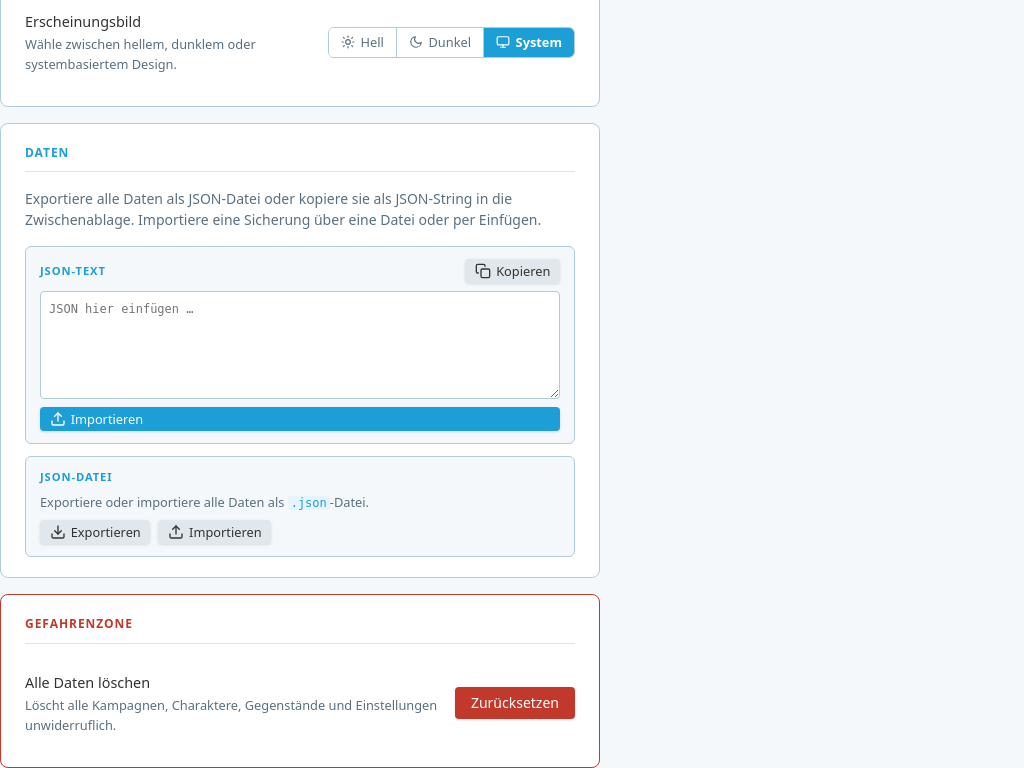
SettingsView › clear all data › clicking "Zurücksetzen" shows the confirm dialog
The width and height of the screenshot is (1024, 768).
(page scrolled)
What coordinates should you click on to do the following:
click the button "Zurücksetzen"
I would click on:
 (515, 703)
Its box is [455, 687, 575, 719].
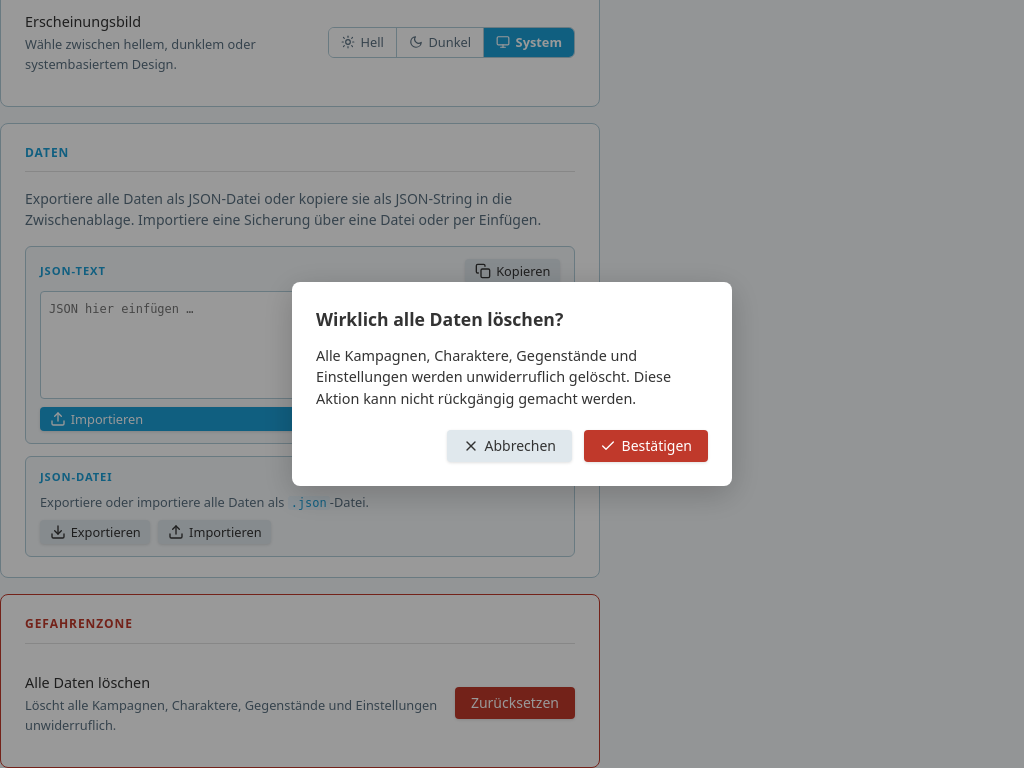
Check: the text "Wirklich alle Daten löschen?" is shown, box [316, 307, 563, 331]
